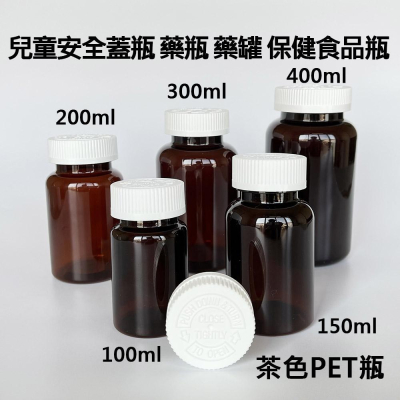medicinejar: (229, 149, 326, 333), (269, 84, 359, 271), (108, 180, 194, 344), (159, 105, 239, 271), (43, 133, 125, 282)
